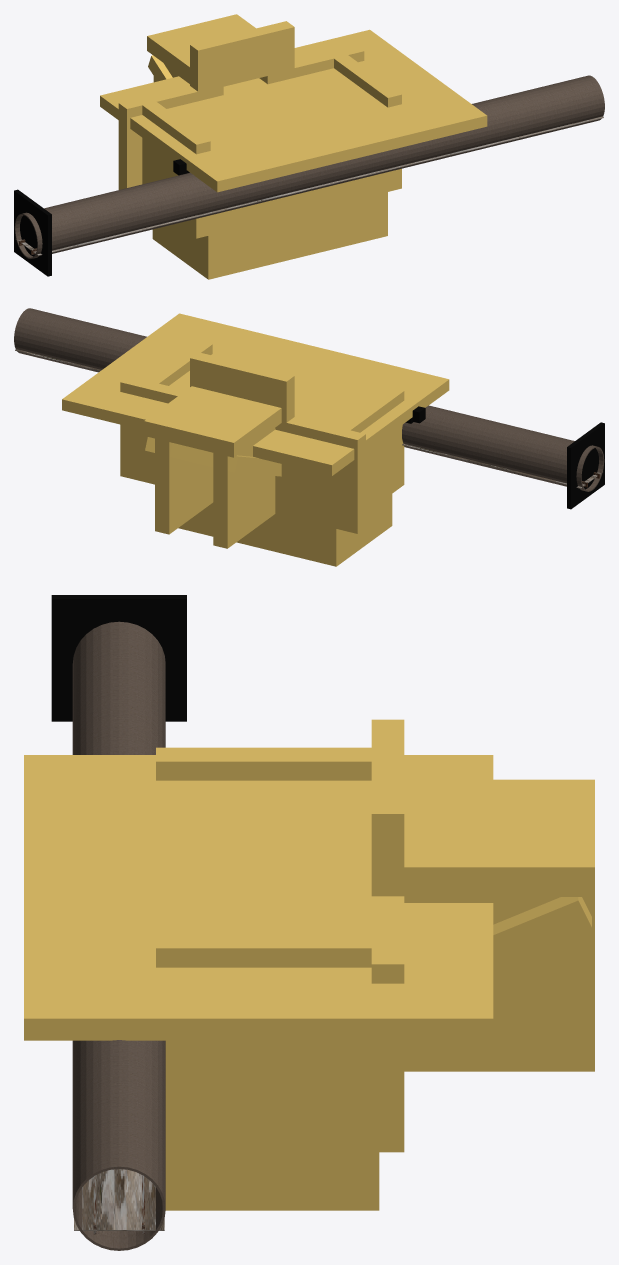
The model's file is Station.glb.
The picture shows the model from 3 angles, top to bottom: view 1: azimuth 30°, elevation 25°; view 2: azimuth 150°, elevation 25°; view 3: azimuth 270°, elevation 25°; orthographic projection. The views are drawn at different scales.
Parts seen in each view (by area): view 1: Station, TunnelTriple, Darkness; view 2: Station, TunnelTriple, Darkness; view 3: Station, TunnelTriple, Darkness.
Boxes of the visible parts, x1,y1,x2,y2 form: Station: [100, 14, 487, 279]; TunnelTriple: [14, 75, 604, 258]; Darkness: [14, 189, 51, 276]; Station: [62, 313, 449, 566]; TunnelTriple: [14, 308, 604, 491]; Darkness: [567, 422, 604, 509]; Station: [24, 719, 594, 1210]; TunnelTriple: [72, 621, 165, 1250]; Darkness: [51, 595, 186, 721].
Size of the model in its own units: 108 by 32.63 by 47.16.
Materials: 6 (3 with a texture image).
